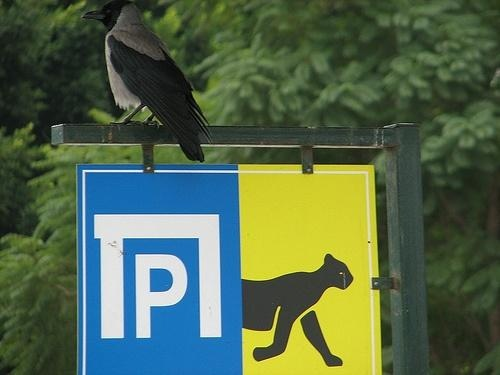bird: (82, 1, 214, 165)
